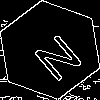N: (25, 25, 85, 84)
